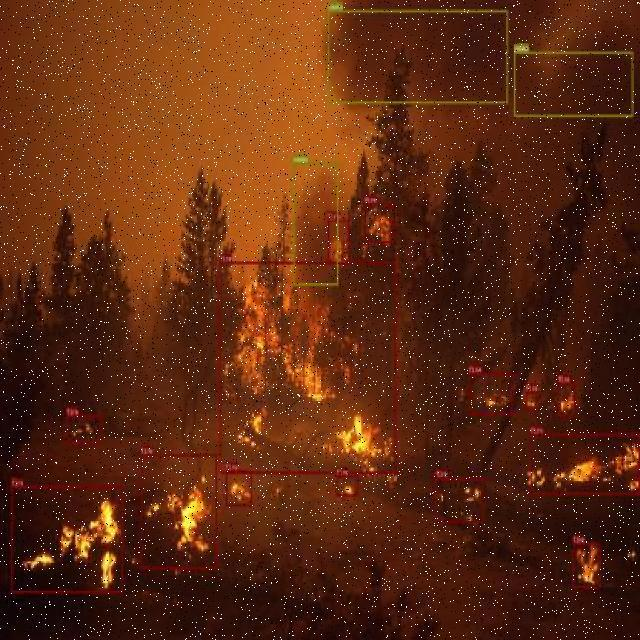Smoke: (359, 9, 475, 103), (513, 51, 633, 116), (292, 163, 337, 285)
